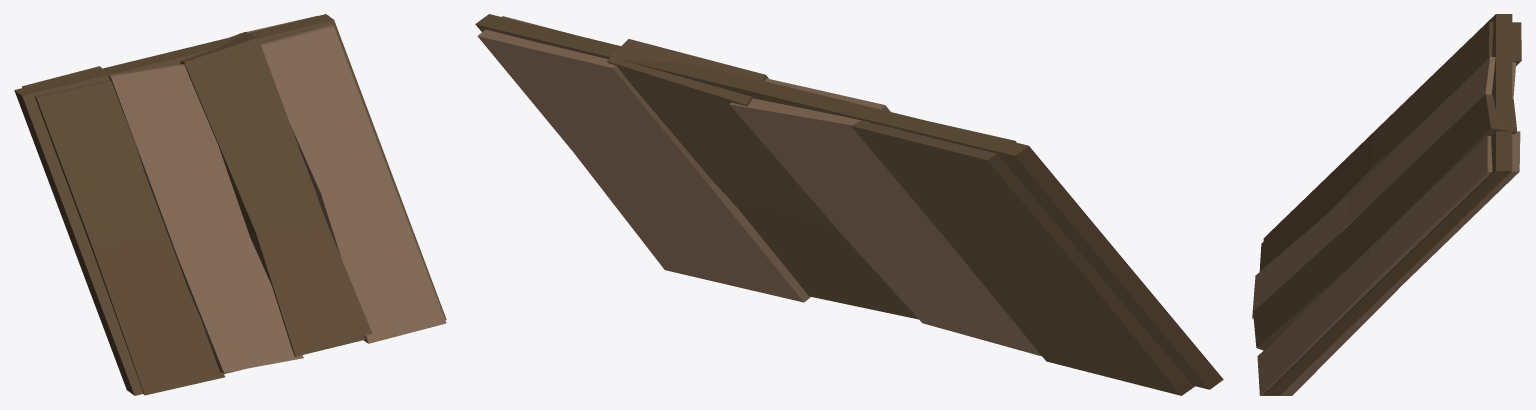
File: enchantedforest_roof_wood_2.fbx
The picture shows the model from 3 angles, left to right: view 1: azimuth 30°, elevation 25°; view 2: azimuth 150°, elevation 25°; view 3: azimuth 270°, elevation 25°; orthographic projection. The views are drawn at different scales.
Visible parts, largest first — view 1: Cube.015; view 2: Cube.015; view 3: Cube.015.
Boxes of the visible parts, x1,y1,x2,y2 form: Cube.015: [14, 14, 446, 395]; Cube.015: [475, 14, 1223, 395]; Cube.015: [1252, 14, 1521, 395].
Size of the model in its own units: 3 by 2.06 by 2.18.
